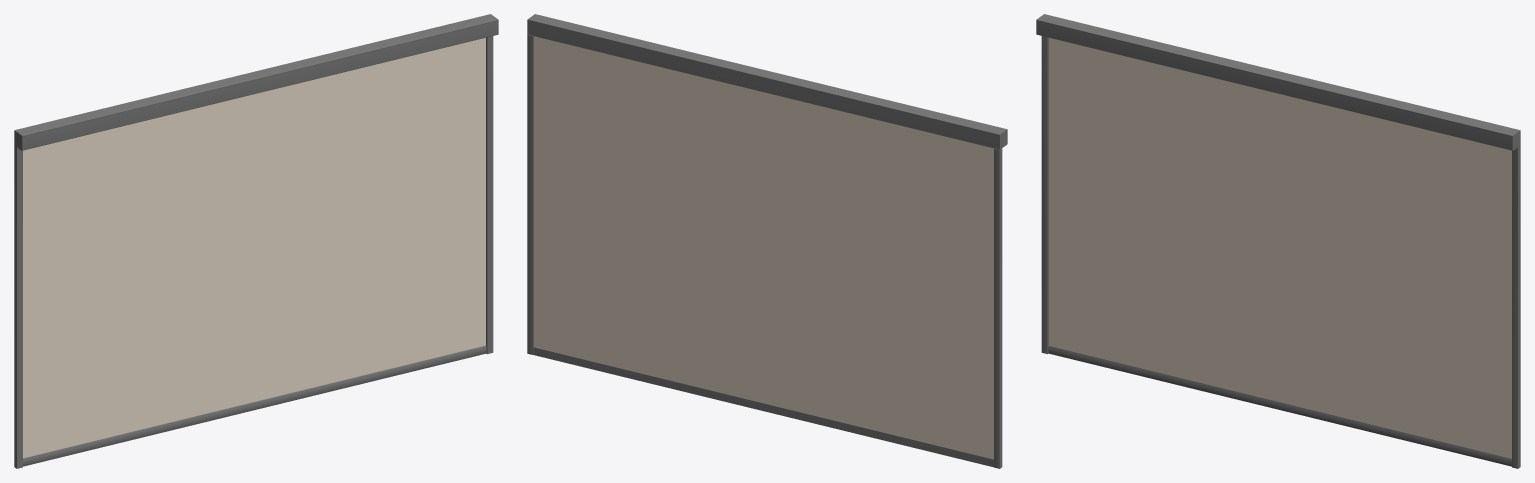
File: Zip 4.glb
3 views of the same model, side by side, from view 1: azimuth 30°, elevation 25°; view 2: azimuth 150°, elevation 25°; view 3: azimuth 330°, elevation 25° (orthographic).
Visible parts, largest first — view 1: 3DGeom-1 (×14), 3DGeom-18, 3DGeom-17, 3DGeom-15; view 2: 3DGeom-1 (×14), 3DGeom-18, 3DGeom-17, 3DGeom-15; view 3: 3DGeom-1 (×14), 3DGeom-18, 3DGeom-17, 3DGeom-15.
Boxes of the visible parts, x1,y1,x2,y2 form: 3DGeom-1 (×14): (23, 37, 485, 443); 3DGeom-18: (14, 14, 498, 468); 3DGeom-17: (23, 331, 485, 458); 3DGeom-15: (23, 345, 486, 466); 3DGeom-1 (×14): (534, 36, 993, 444); 3DGeom-18: (527, 14, 1007, 468); 3DGeom-17: (534, 333, 993, 458); 3DGeom-15: (533, 347, 993, 467); 3DGeom-1 (×14): (1049, 37, 1511, 443); 3DGeom-18: (1036, 14, 1520, 468); 3DGeom-17: (1049, 331, 1511, 458); 3DGeom-15: (1048, 345, 1511, 466).
Size of the model in its own units: 3.93 by 2.65 by 0.1113.
